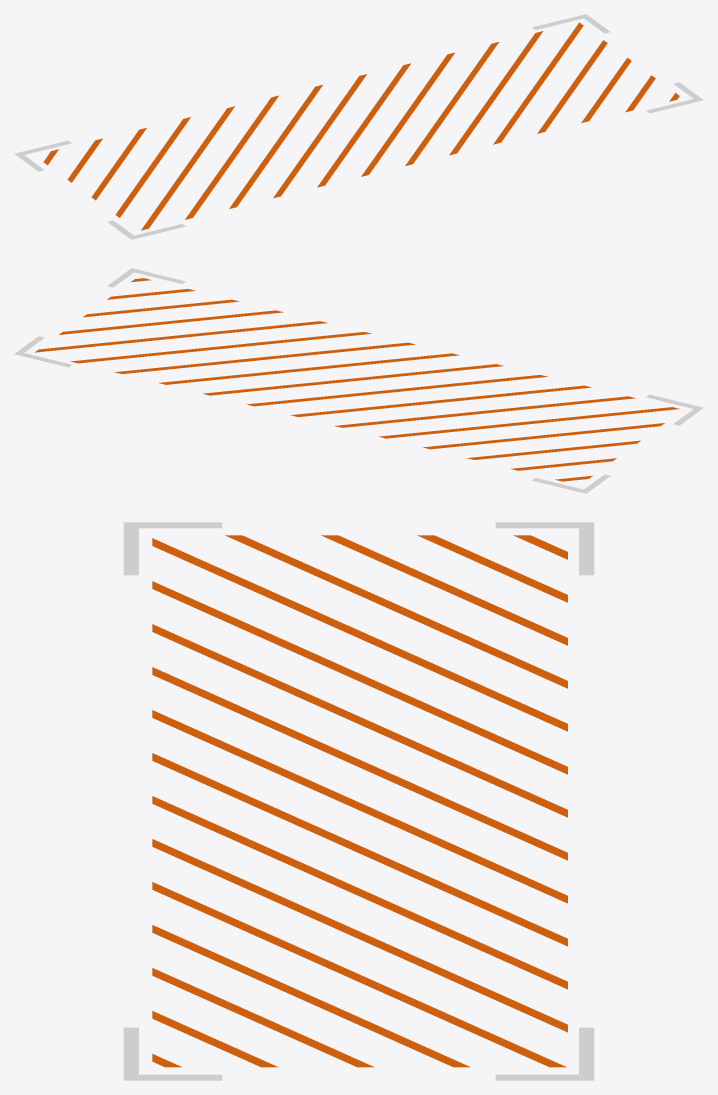
The model's file is floor.fbx.
The picture shows the model from 3 angles, top to bottom: view 1: azimuth 30°, elevation 25°; view 2: azimuth 150°, elevation 25°; view 3: azimuth 270°, elevation 25°; orthographic projection. The views are drawn at different scales.
Parts seen in each view (by area): view 1: stripes_floor; view 2: stripes_floor; view 3: stripes_floor.
Boxes of the visible parts, box(x1,y1,x2,y2) form: stripes_floor: box(14, 14, 703, 239); stripes_floor: box(14, 268, 703, 493); stripes_floor: box(123, 522, 594, 1080).
Size of the model in its own units: 839 by 4.86e-05 by 299.
